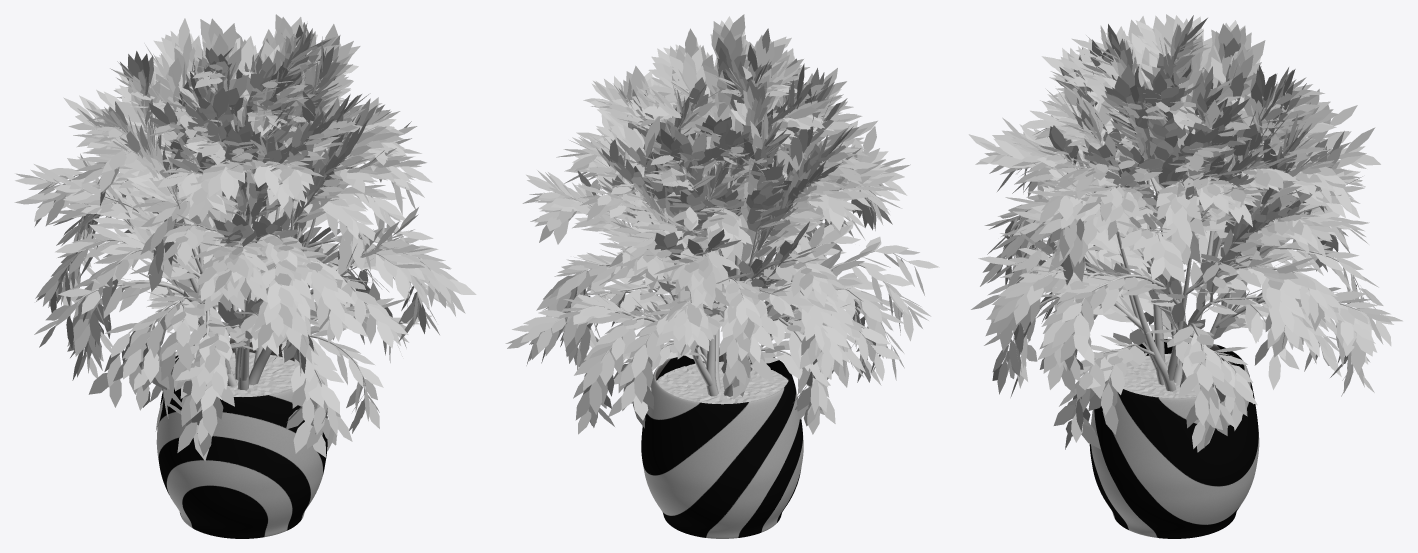
3 views of the same model, side by side, from view 1: azimuth 30°, elevation 25°; view 2: azimuth 150°, elevation 25°; view 3: azimuth 270°, elevation 25° (orthographic). The views are drawn at different scales.
Parts seen in each view (by area): view 1: leaves, Cylinder, tree, Cylinder.004; view 2: leaves, Cylinder, tree, Cylinder.004; view 3: leaves, Cylinder, tree, Cylinder.004.
Boxes of the visible parts, left/top/right/bottom form: leaves: left=14, top=14, right=476, bottom=460; Cylinder: left=156, top=337, right=327, bottom=538; tree: left=49, top=81, right=430, bottom=391; Cylinder.004: left=191, top=352, right=295, bottom=396; leaves: left=505, top=14, right=939, bottom=434; Cylinder: left=641, top=347, right=803, bottom=538; tree: left=554, top=102, right=913, bottom=396; Cylinder.004: left=656, top=361, right=788, bottom=404; leaves: left=968, top=14, right=1402, bottom=452; Cylinder: left=1089, top=338, right=1259, bottom=538; tree: left=1005, top=71, right=1363, bottom=413; Cylinder.004: left=1109, top=353, right=1236, bottom=398.
Size of the model in its own units: 515 by 679 by 541.
